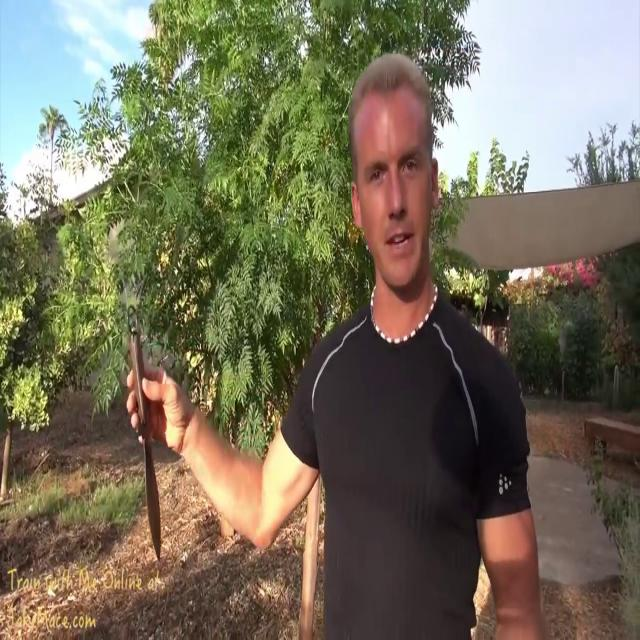knife: (125, 326, 177, 568)
